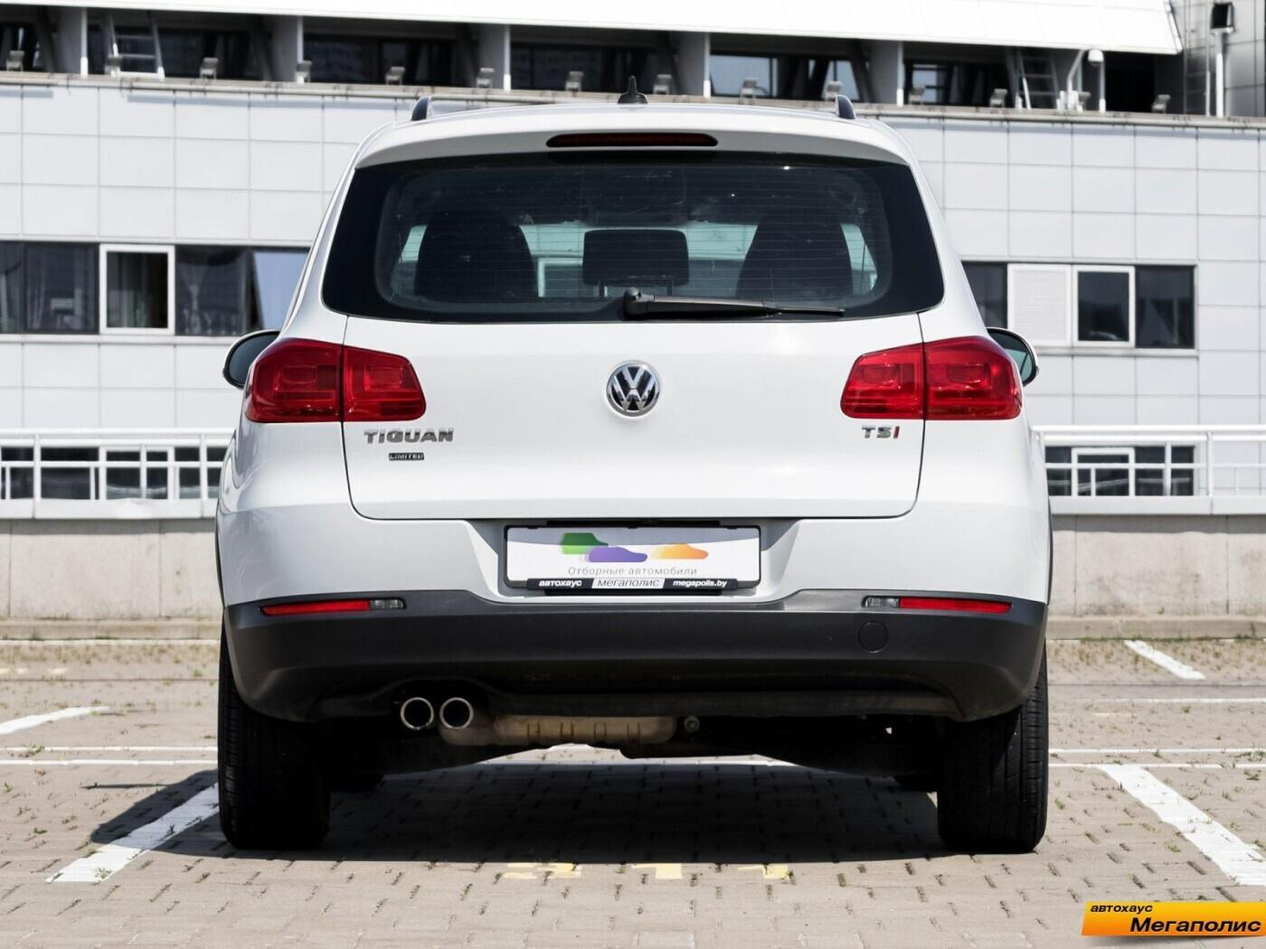Tiguan_2011-2018: (200, 98, 1062, 866)
